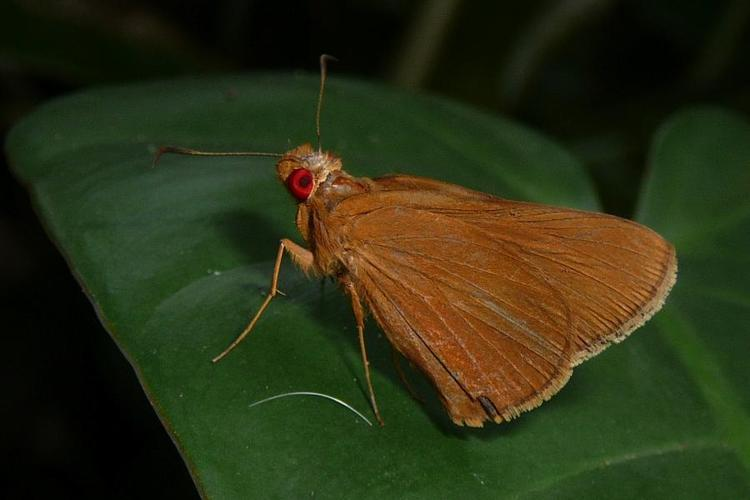Hesperiidae: (142, 49, 682, 436)
